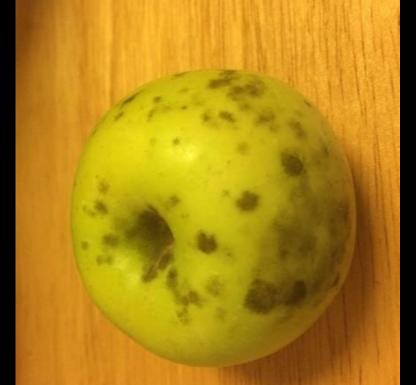defect: (87, 64, 346, 178), (157, 183, 346, 327), (58, 181, 138, 276)
